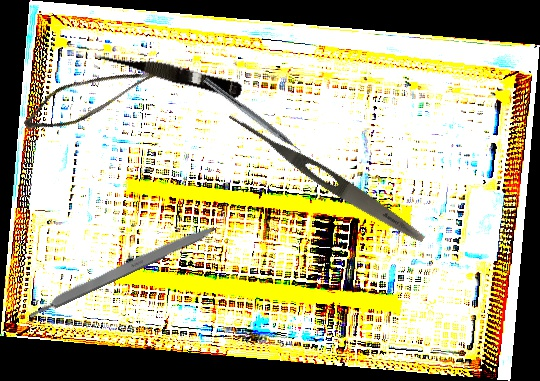Chopper: (197, 76, 311, 165)
Dressing Forceps: (222, 108, 429, 248)
Micro Scissor: (18, 31, 172, 155), (90, 43, 245, 100)
Scalpel Handle: (25, 220, 219, 320)
